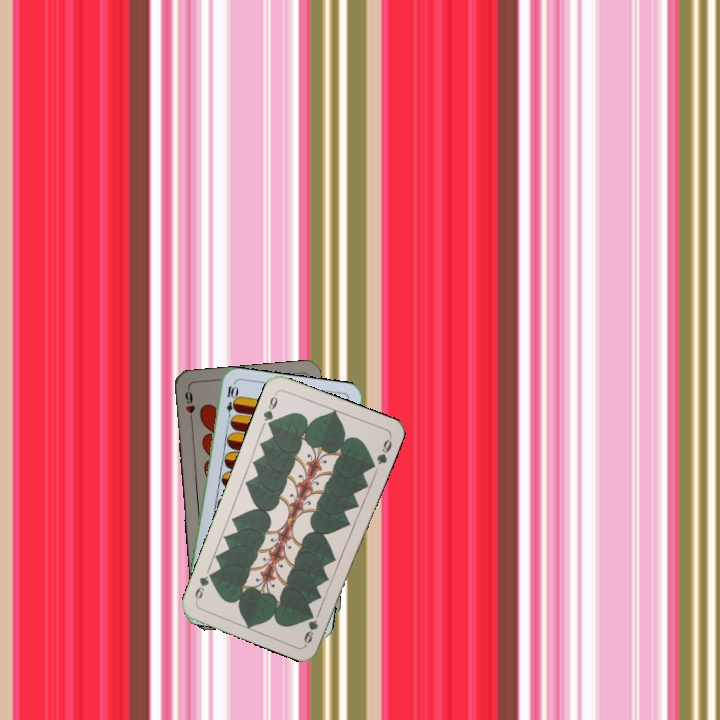E10: (222, 382, 238, 422)
G9: (259, 389, 280, 430), (300, 616, 321, 646)
H9: (181, 385, 198, 425)
